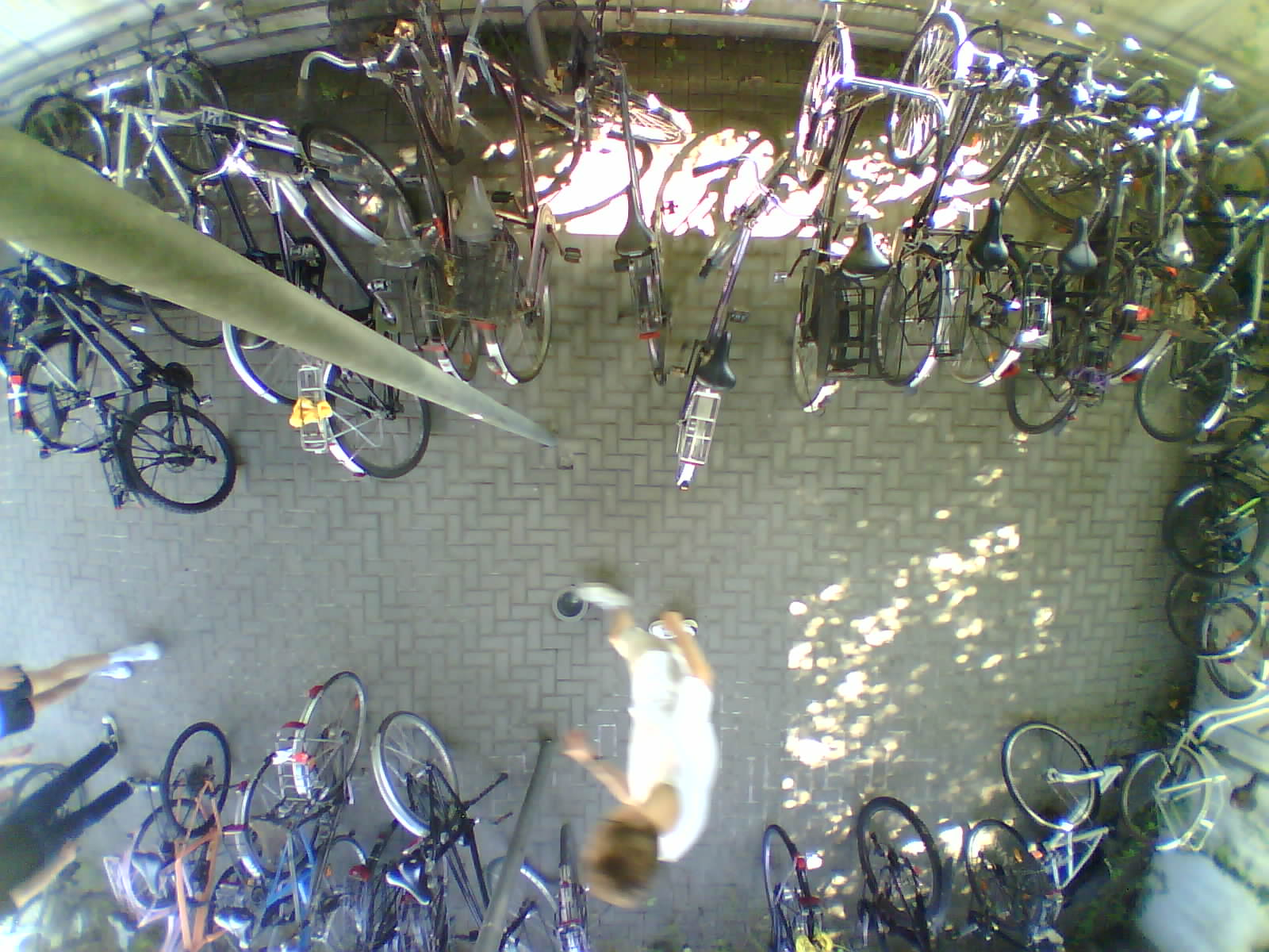bicylce: (669, 137, 795, 491), (356, 36, 478, 399), (195, 99, 339, 401), (300, 127, 425, 474), (1095, 41, 1207, 407), (785, 9, 885, 416), (885, 0, 988, 391), (997, 60, 1102, 437), (1123, 595, 1269, 859), (116, 48, 234, 338), (940, 70, 1051, 377), (452, 36, 547, 390), (1138, 174, 1262, 440), (109, 264, 240, 512), (589, 28, 671, 403), (281, 660, 373, 950), (367, 714, 472, 952), (126, 727, 225, 952), (17, 256, 122, 453)
saddle: (369, 191, 431, 277), (446, 174, 506, 249), (607, 193, 662, 264), (834, 217, 892, 279), (967, 202, 1016, 270), (692, 322, 742, 388), (377, 856, 439, 907), (124, 847, 169, 909), (1155, 210, 1203, 268), (1061, 217, 1102, 279), (206, 905, 259, 948)
